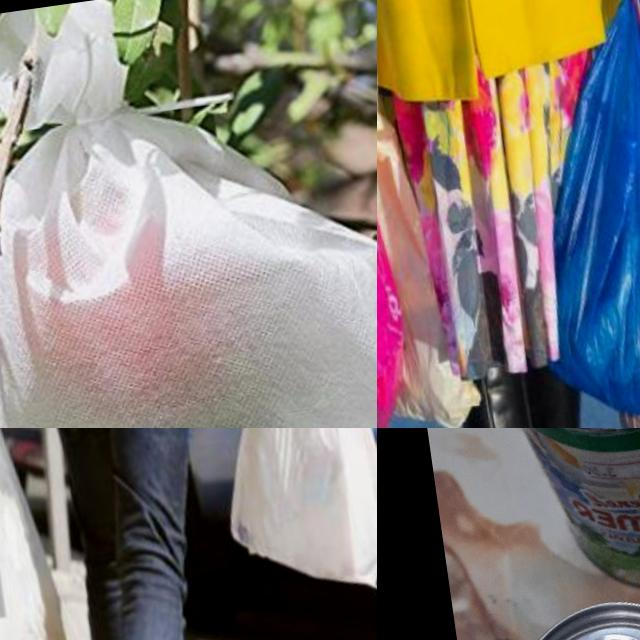lata: (479, 428, 640, 612)
sacola plástica: (0, 0, 377, 428), (507, 0, 640, 428), (377, 9, 469, 428), (182, 428, 377, 609), (0, 428, 85, 640)
